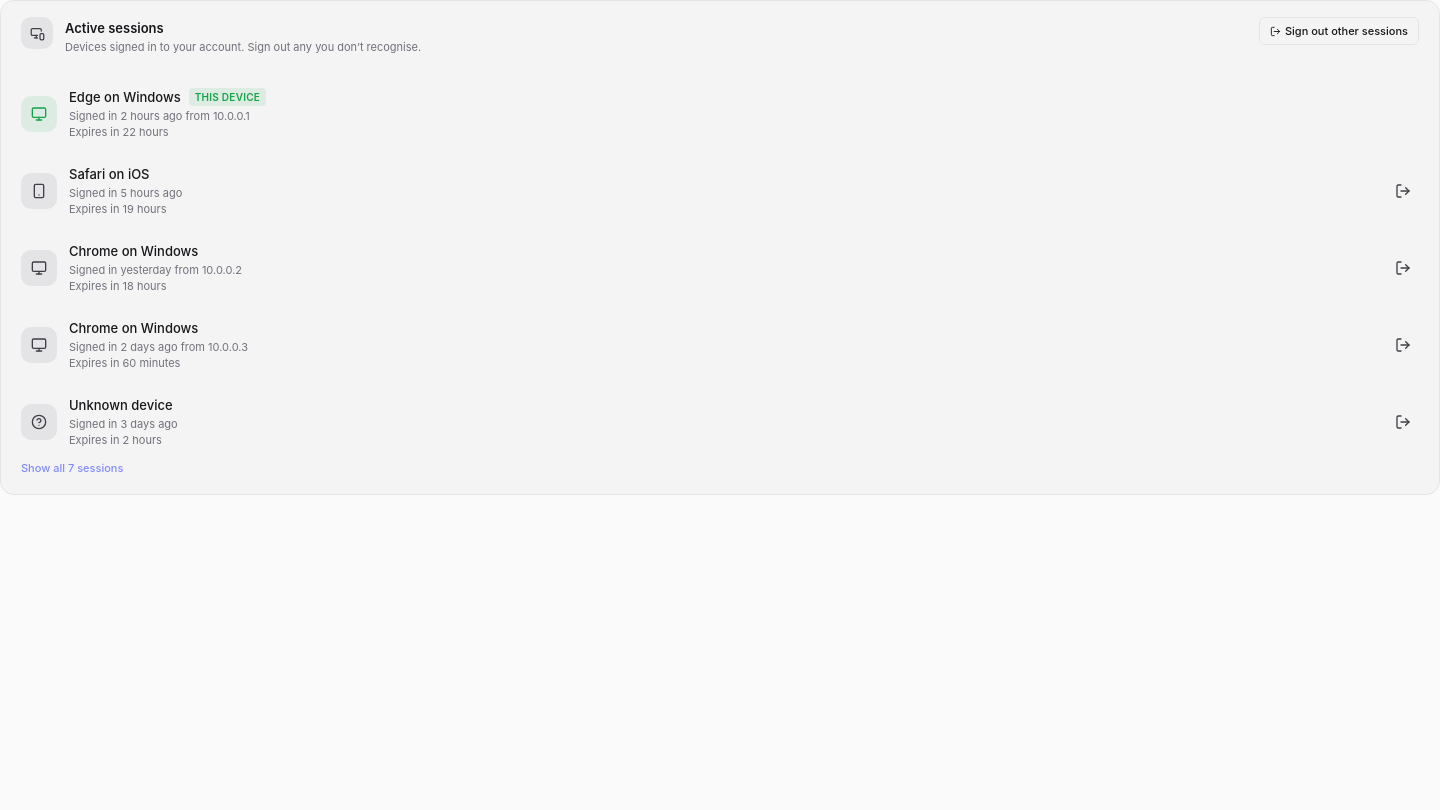
Scenario: ActiveSessionsSection › signs out one device after confirming, then drops the row and toasts
Click the button named "Sign out Safari on iOS": [1403, 191] box x1=1387 y1=175 x2=1419 y2=207
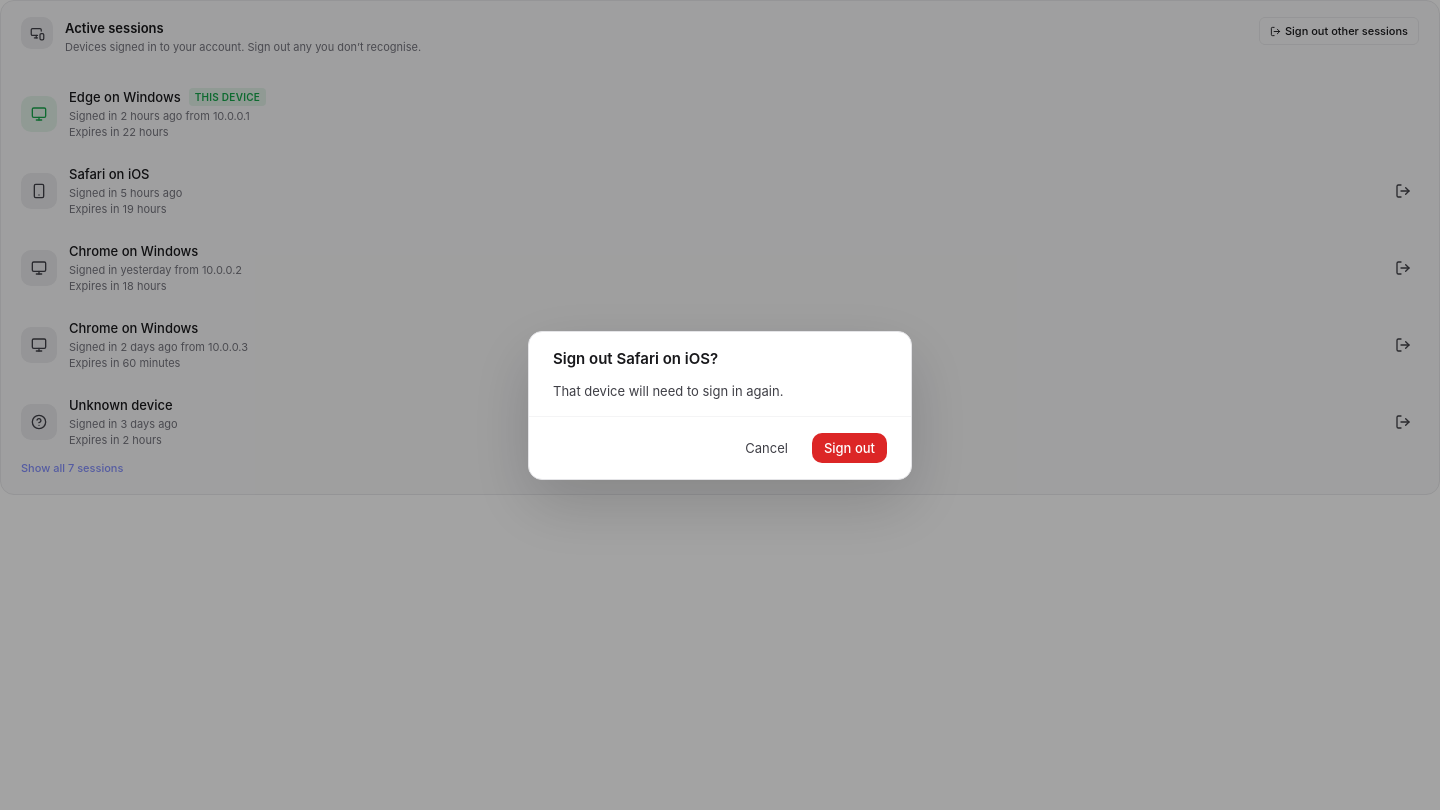
Now the dialog shows "Sign out Safari on iOS?", box x1=553 y1=348 x2=718 y2=368
Click the button "Sign out": [849, 448] box x1=812 y1=432 x2=887 y2=462
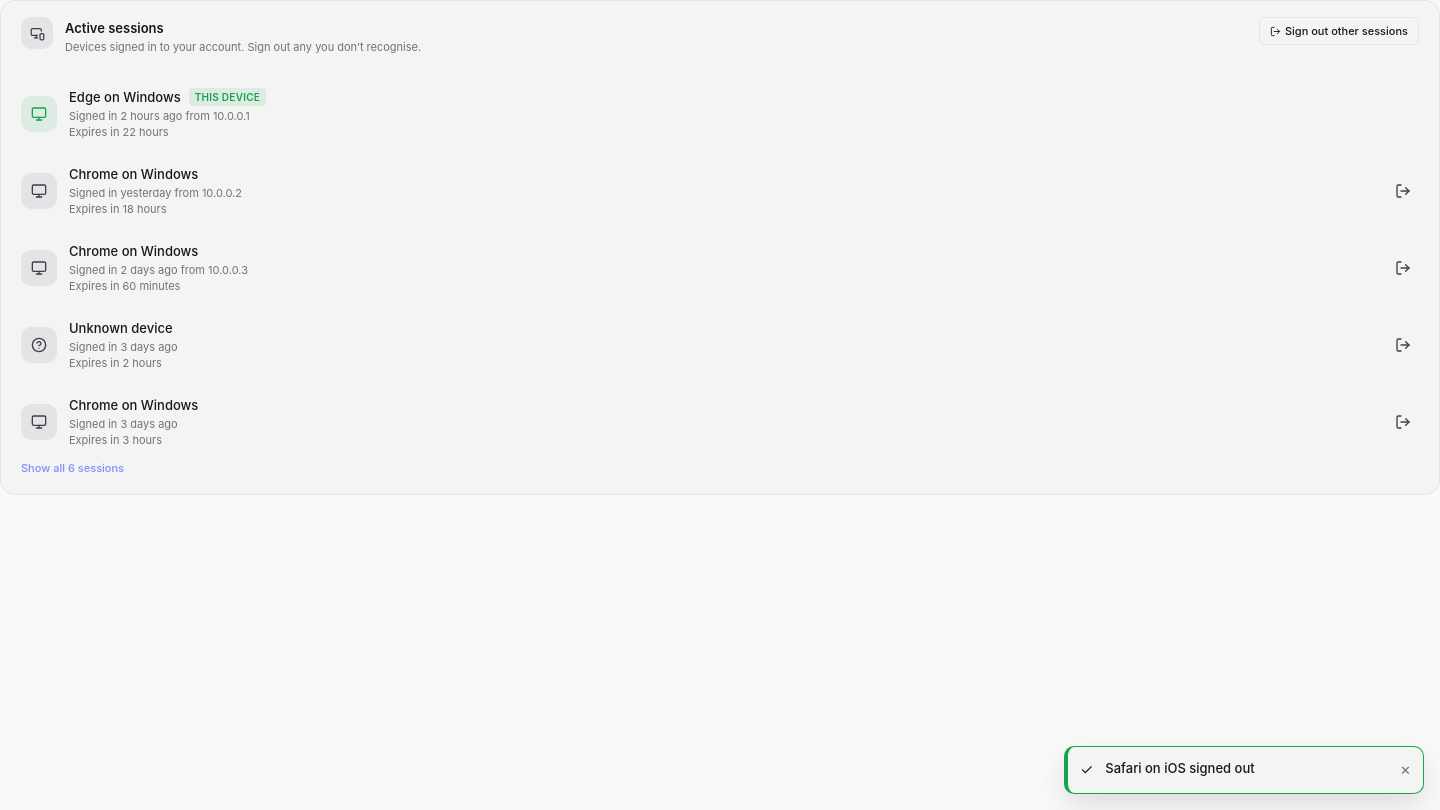
Now the text "Safari on iOS signed out" is shown, box x1=1105 y1=760 x2=1255 y2=776
